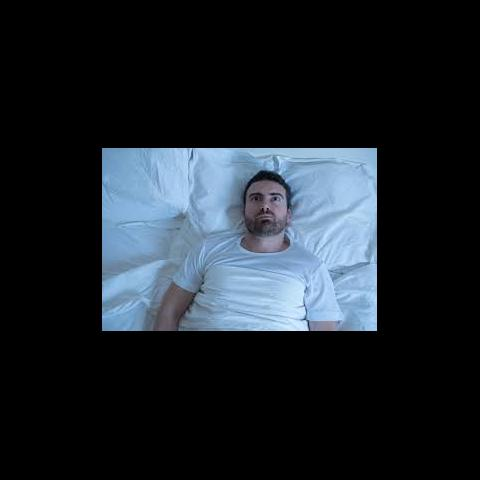opened: (250, 190, 285, 207)
